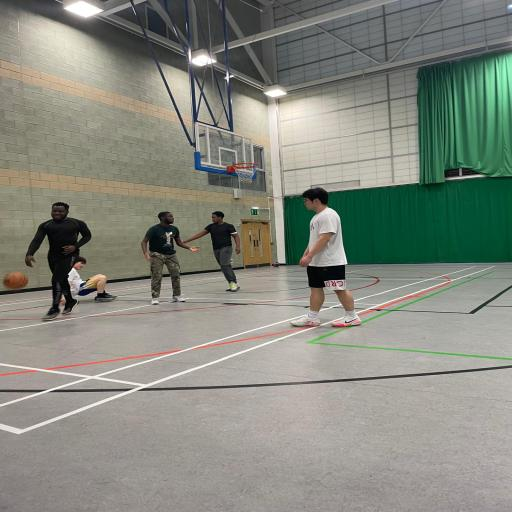hoops: (232, 159, 262, 186)
